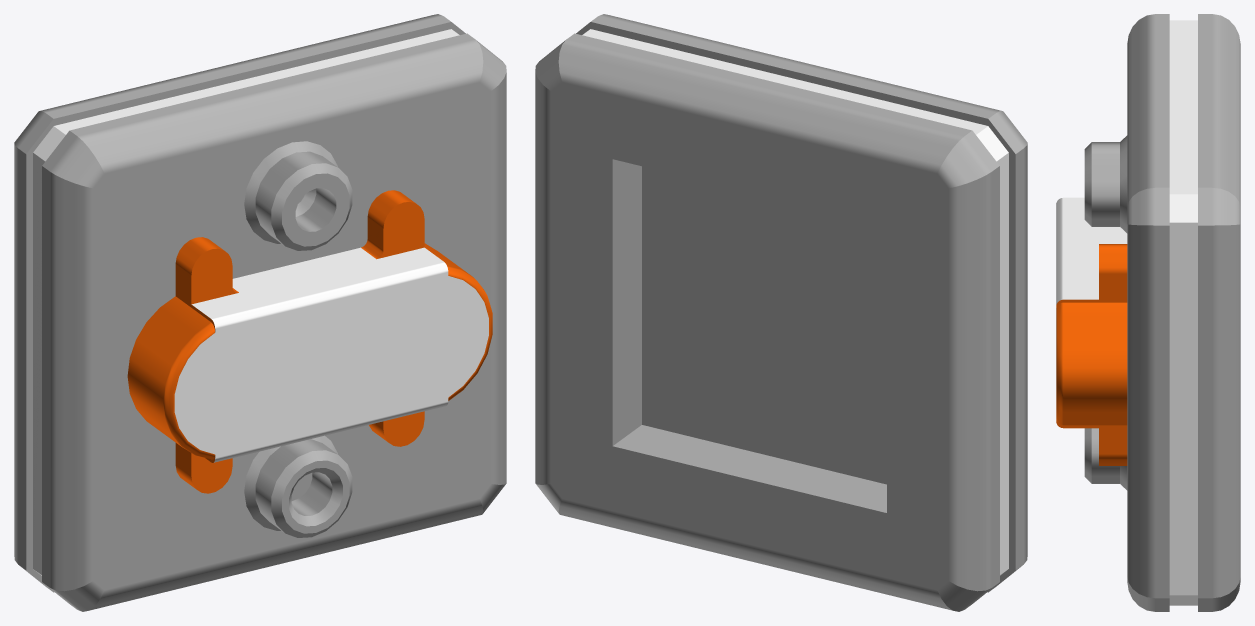
The model's file is oht-gripper.obj.
3 renders of one model, left to right at view 1: azimuth 30°, elevation 25°; view 2: azimuth 150°, elevation 25°; view 3: azimuth 270°, elevation 25°, orthographic. The views are drawn at different scales.
Parts seen in each view (by area): view 1: gripper; view 2: gripper; view 3: gripper.
Boxes of the visible parts, box(x1,y1,x2,y2) form: gripper: box(14, 14, 506, 611); gripper: box(535, 14, 1027, 611); gripper: box(1056, 14, 1240, 611).
Bounding box in the file's own units: 0.33 × 0.33 × 0.13.
